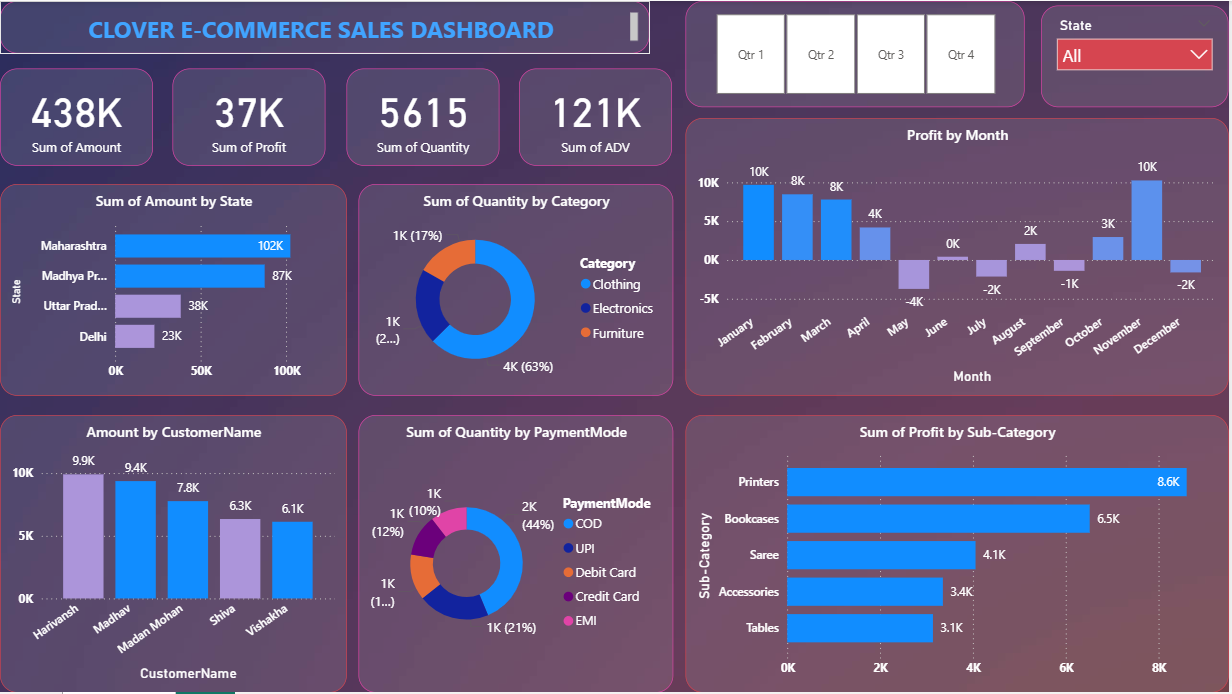

What the dashboard file says about the page in this screenshot:
{"tool":"powerbi","page":{"name":"Page 1","canvas":[1280,720],"ordinal":0},"visuals":[{"type":"textbox","box":[0,0,676.8,54.7],"z":0},{"type":"columnChart","title":"Profit by Month","fields":{"Category":["Orders.Order Date.Variation.Date Hierarchy.Month"],"Y":["Details.Profit"]},"box":[714.3,121.9,565.8,289.2],"z":1000},{"type":"barChart","fields":{"Category":["Details.Sub-Category"],"Y":["Details.Profit"]},"box":[714.3,431.4,565.8,289.2],"z":2000},{"type":"donutChart","fields":{"Category":["Details.Category"],"Y":["Details.Quantity"]},"box":[373.6,190.7,328.2,220.4],"z":3000},{"type":"donutChart","fields":{"Category":["Details.PaymentMode"],"Y":["Details.Quantity"]},"box":[373.6,431.4,328.2,289.2],"z":4000},{"type":"card","fields":{"Values":["Details.Amount"]},"box":[0,70.3,159.4,101.6],"z":5000},{"type":"card","fields":{"Values":["Details.Profit"]},"box":[179.7,70.3,159.4,101.6],"z":6000},{"type":"card","fields":{"Values":["Details.Quantity"]},"box":[361.1,70.3,159.4,101.6],"z":7000},{"type":"card","fields":{"Values":["Details.ADV"]},"box":[540.8,70.3,159.4,101.6],"z":8000},{"type":"barChart","fields":{"Category":["Orders.State"],"Y":["Details.Amount"]},"box":[0,190.7,361.1,220.4],"z":9000},{"type":"columnChart","title":"Amount by CustomerName","fields":{"Category":["Orders.CustomerName"],"Y":["Details.Amount"]},"box":[0,431.4,361.1,289.2],"z":10000},{"type":"slicer","fields":{"Values":["Orders.Order Date.Variation.Date Hierarchy.Quarter"]},"box":[714.3,0,353.2,111],"z":11000},{"type":"slicer","fields":{"Values":["Orders.State"]},"box":[1084.7,4.7,195.4,106.3],"z":12000}]}

Visuals, with their boxes in screenshot pixels (x1, y1, x2, y2), scaled from the page's 1280x720 canvas onto the 1232x694 screenshot:
textbox: bbox=[0, 0, 651, 53]
"Profit by Month" columnChart: bbox=[688, 117, 1231, 396]
barChart - Details.Sub-Category x Details.Profit: bbox=[688, 416, 1231, 693]
donutChart - Details.Category x Details.Quantity: bbox=[360, 184, 675, 396]
donutChart - Details.PaymentMode x Details.Quantity: bbox=[360, 416, 675, 693]
card - Details.Amount: bbox=[0, 68, 153, 166]
card - Details.Profit: bbox=[173, 68, 326, 166]
card - Details.Quantity: bbox=[348, 68, 501, 166]
card - Details.ADV: bbox=[521, 68, 674, 166]
barChart - Orders.State x Details.Amount: bbox=[0, 184, 348, 396]
"Amount by CustomerName" columnChart: bbox=[0, 416, 348, 693]
slicer - Orders.Order Date.Variation.Date Hierarchy.Quarter: bbox=[688, 0, 1027, 107]
slicer - Orders.State: bbox=[1044, 5, 1231, 107]
